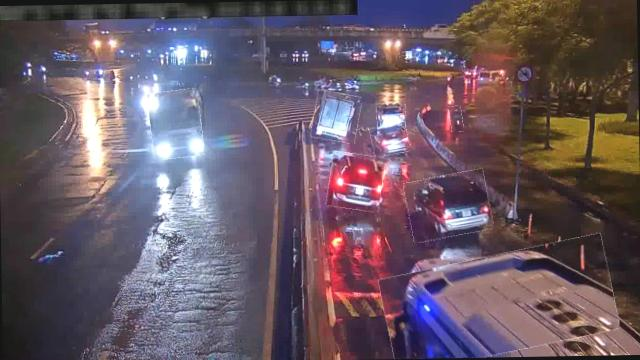Bike: (450, 106, 464, 132)
Bus: (380, 243, 618, 359)
Car: (405, 172, 492, 240), (328, 152, 384, 212), (371, 122, 410, 156), (376, 102, 406, 128)
Truck: (148, 89, 204, 160), (312, 90, 361, 142)
